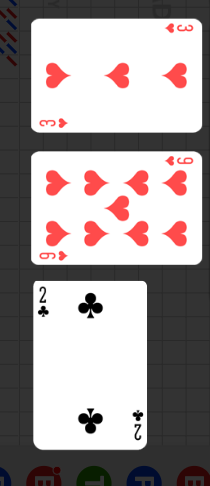2C: (130, 407, 144, 442)
3H: (162, 22, 194, 35)
9H: (38, 249, 69, 262)
